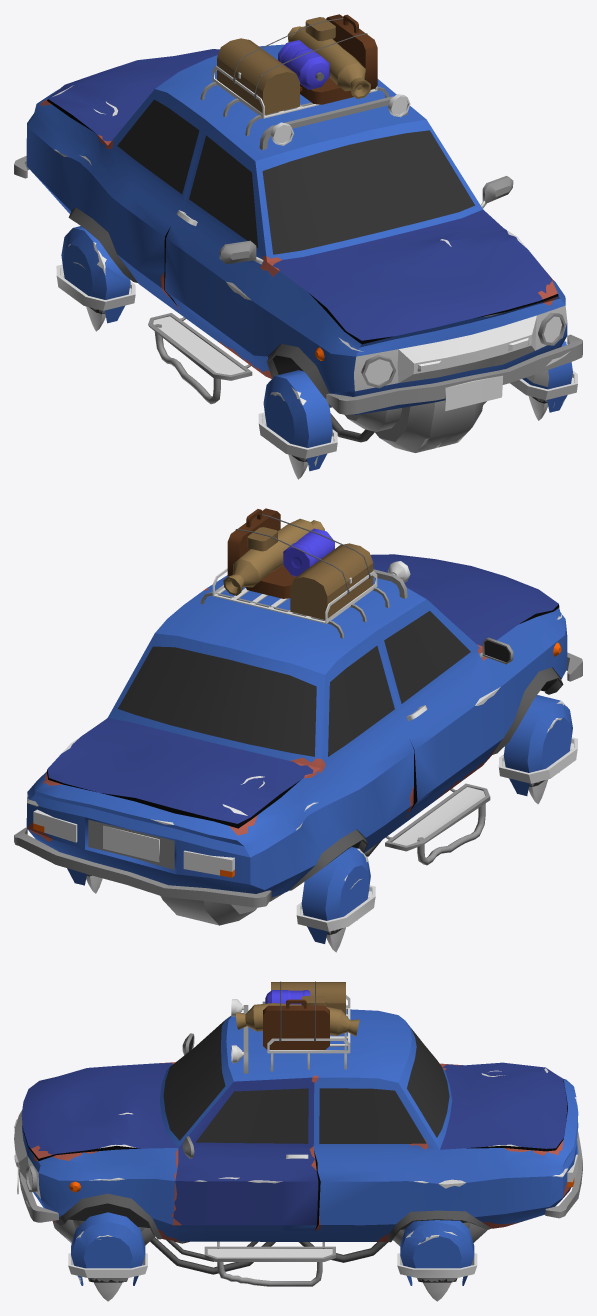
The model's file is sci_fi_zaz_969_m.fbx.
3 views of the same model, one above another, from view 1: azimuth 30°, elevation 25°; view 2: azimuth 150°, elevation 25°; view 3: azimuth 270°, elevation 25° (orthographic). The views are drawn at different scales.
Visible parts, largest first — view 1: Car, Nozzle_FR, Nozzle_RR, Baggage_Chest, Baggage_Carpet, Nozzle_FL, Baggage_Suitcase, Baggage_Bottle, Baggage_Suitcase_2; view 2: Car, Nozzle_FR, Nozzle_RR, Baggage_Chest, Baggage_Carpet, Baggage_Bottle, Baggage_Suitcase, Baggage_Suitcase_2, Baggage_Box; view 3: Car, Nozzle_FL, Nozzle_RL, Baggage_Suitcase, Baggage_Carpet, Baggage_Chest, Cable_1, Baggage_Bottle, Cable_2.
Part boxes in pixels (x1,y1,x2,y2): Car: (14,44,582,452); Nozzle_FR: (258,370,337,471); Nozzle_RR: (56,226,135,323); Baggage_Chest: (217,38,299,114); Baggage_Carpet: (288,26,370,98); Nozzle_FL: (510,339,577,412); Baggage_Suitcase: (326,14,377,89); Baggage_Bottle: (278,40,329,89); Baggage_Suitcase_2: (300,77,353,104); Car: (14,554,582,925); Nozzle_FR: (498,695,577,795); Nozzle_RR: (296,847,375,943); Baggage_Chest: (290,543,373,619); Baggage_Carpet: (223,518,324,595); Baggage_Bottle: (283,528,334,576); Baggage_Suitcase: (227,508,280,576); Baggage_Suitcase_2: (245,565,296,598); Baggage_Box: (247,527,277,551); Car: (14,995,582,1286); Nozzle_FL: (68,1212,147,1285); Nozzle_RL: (397,1220,477,1285); Baggage_Suitcase: (263,999,329,1049); Baggage_Carpet: (236,1003,359,1036); Baggage_Chest: (271,982,345,1014); Cable_1: (150,1237,275,1274); Baggage_Bottle: (262,990,310,1004); Cable_2: (299,1241,388,1262).
Size of the model in its own units: 175 by 209 by 362.
